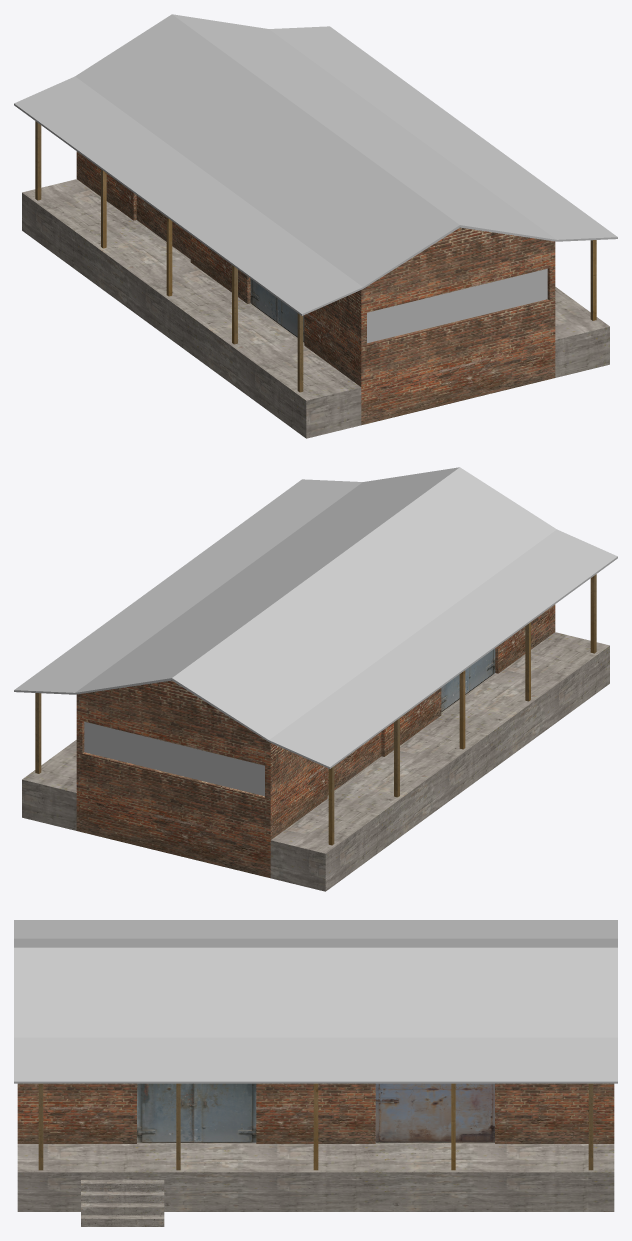
The model's file is house3.fbx.
3 views of the same model, one above another, from view 1: azimuth 30°, elevation 25°; view 2: azimuth 150°, elevation 25°; view 3: azimuth 270°, elevation 25° (orthographic). The views are drawn at different scales.
Parts seen in each view (by area): view 1: house, pilars2; view 2: house, pilars2; view 3: house, stairs_stone1, pilars.
Boxes of the visible parts, x1,y1,x2,y2 form: house: [14, 14, 617, 438]; pilars2: [35, 121, 303, 392]; house: [14, 467, 617, 891]; pilars2: [328, 574, 596, 845]; house: [14, 920, 617, 1211]; stairs_stone1: [81, 1180, 164, 1226]; pilars: [38, 1083, 593, 1170].
Bounding box in the file's own units: 5.56 × 2.79 × 8.18.
